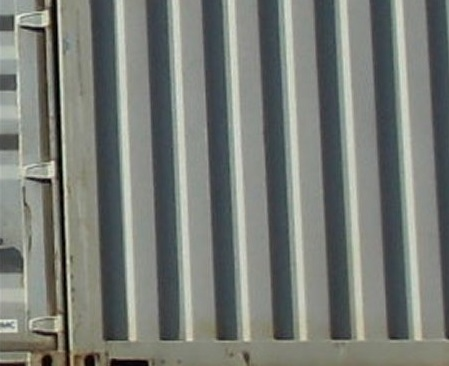container_no_door: (68, 1, 448, 364)
